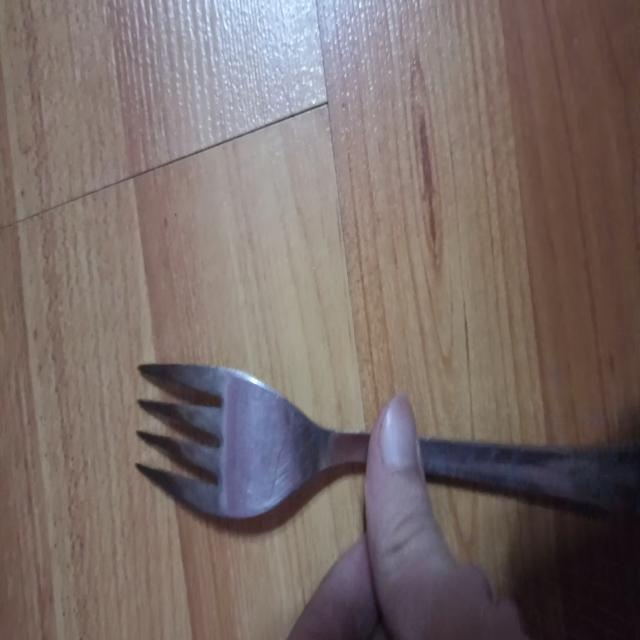spoon: (135, 362, 371, 519)
